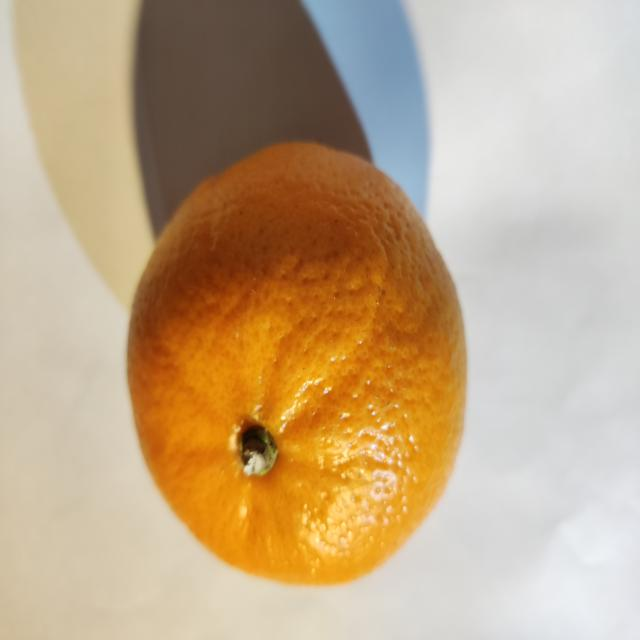orange: (129, 144, 465, 583)
